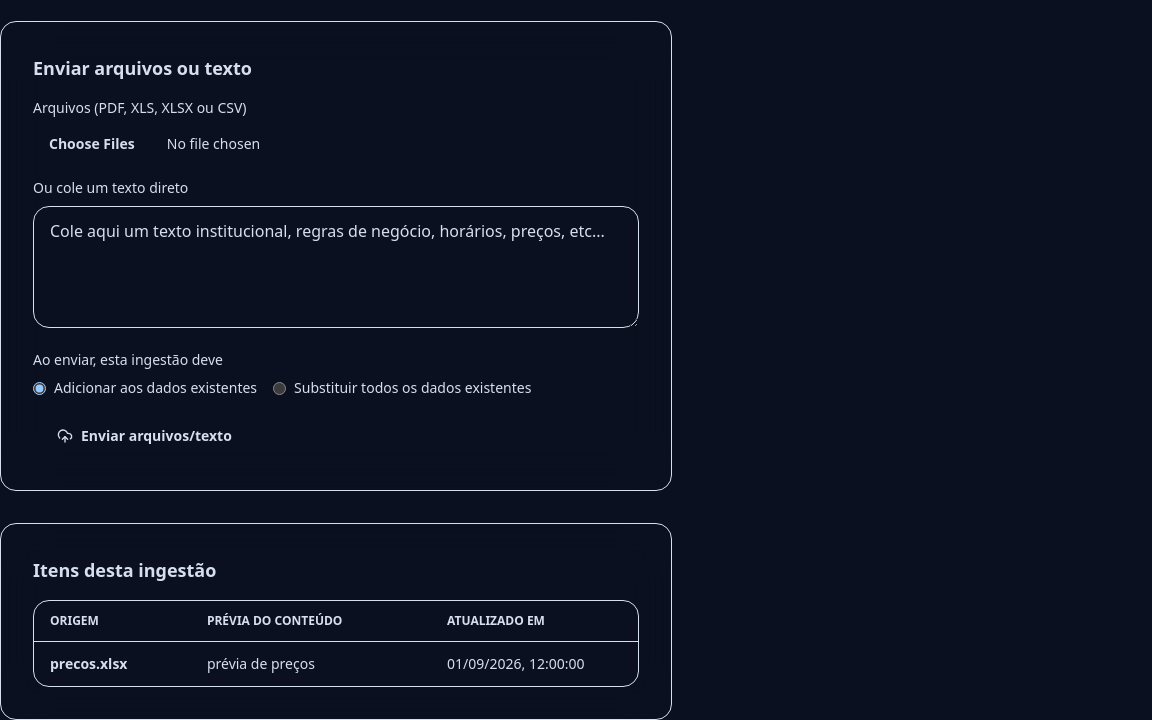
Test case: KnowledgeBaseEditor › US3: opens the item detail modal when a grid row is clicked
This screenshot has width=1152, height=720.
(page scrolled)
Click the text "precos.xlsx": (112, 664) [34,642,191,686]
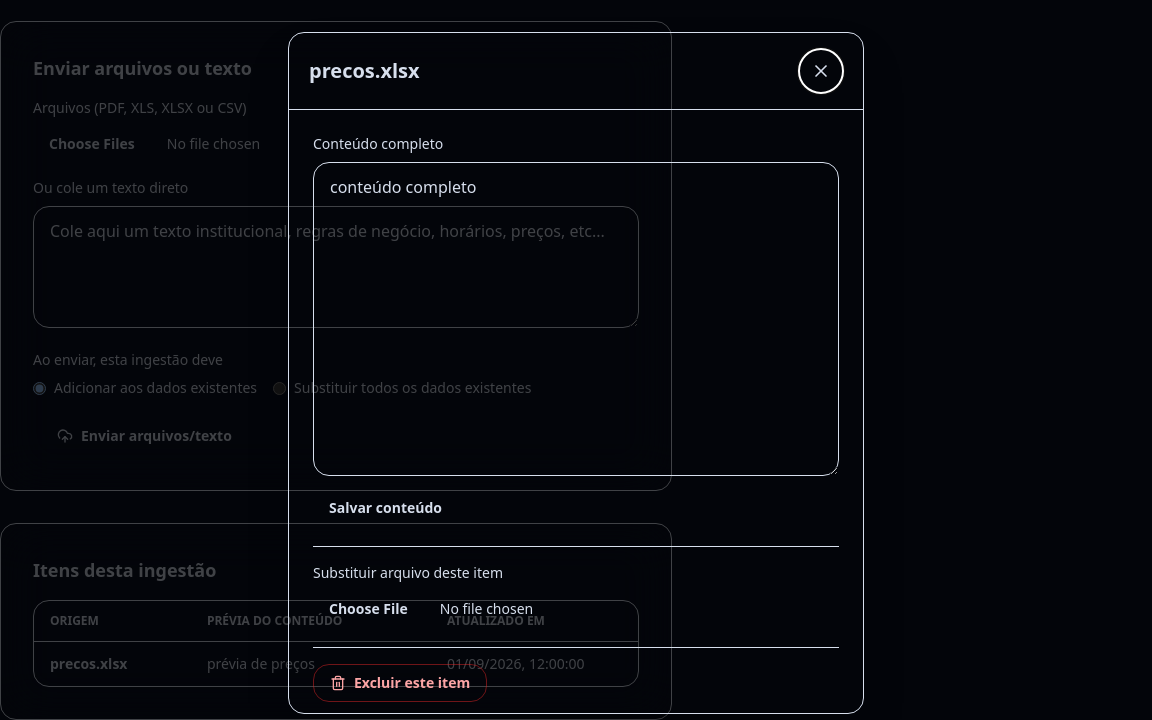
Now the dialog "precos.xlsx" is shown, box [288,32,864,714]
